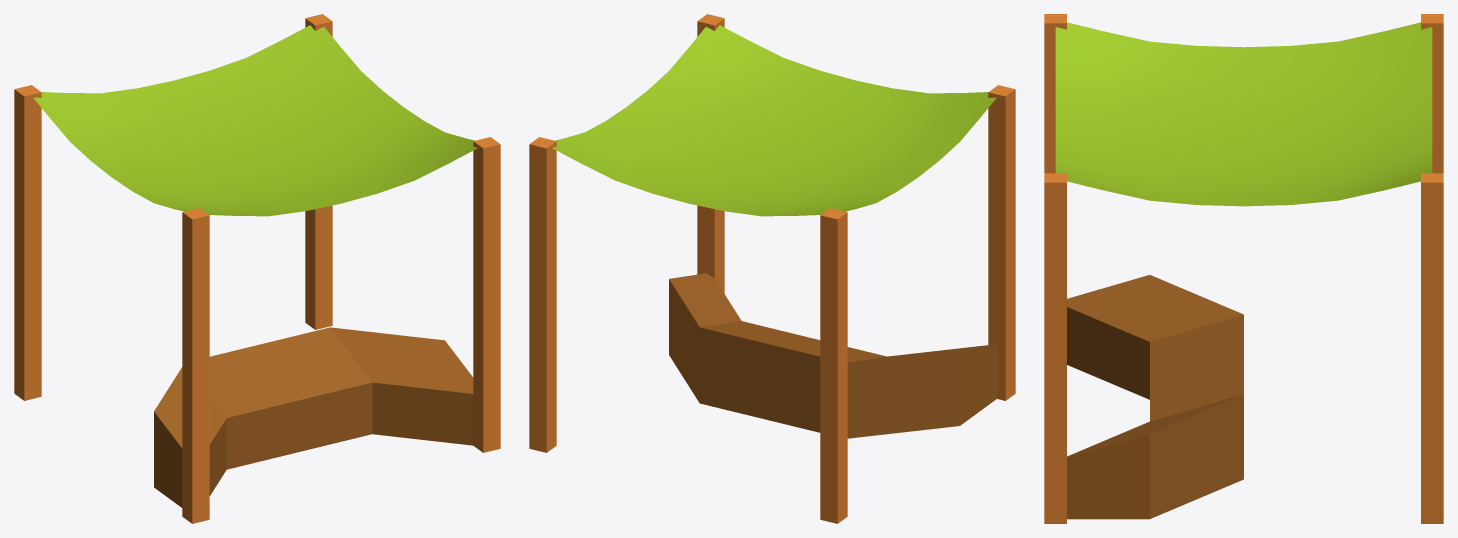
Rendered from market_stall.dae.
The picture shows the model from 3 angles, left to right: view 1: azimuth 30°, elevation 25°; view 2: azimuth 150°, elevation 25°; view 3: azimuth 270°, elevation 25°; orthographic projection. The views are drawn at different scales.
Parts seen in each view (by area): view 1: Cube, Cube_002, Cube_001; view 2: Cube, Cube_001, Cube_002; view 3: Cube, Cube_002, Cube_001.
Part boxes in pixels (box(x1,y1,x2,y2)): Cube: box(33, 25, 477, 216); Cube_002: box(154, 327, 473, 507); Cube_001: box(14, 14, 500, 523); Cube: box(552, 25, 996, 216); Cube_001: box(529, 14, 1015, 523); Cube_002: box(669, 273, 996, 438); Cube: box(1055, 22, 1432, 206); Cube_002: box(1067, 275, 1243, 519); Cube_001: box(1044, 14, 1443, 523).
Size of the model in its own units: 4.24 by 4.24 by 4.
